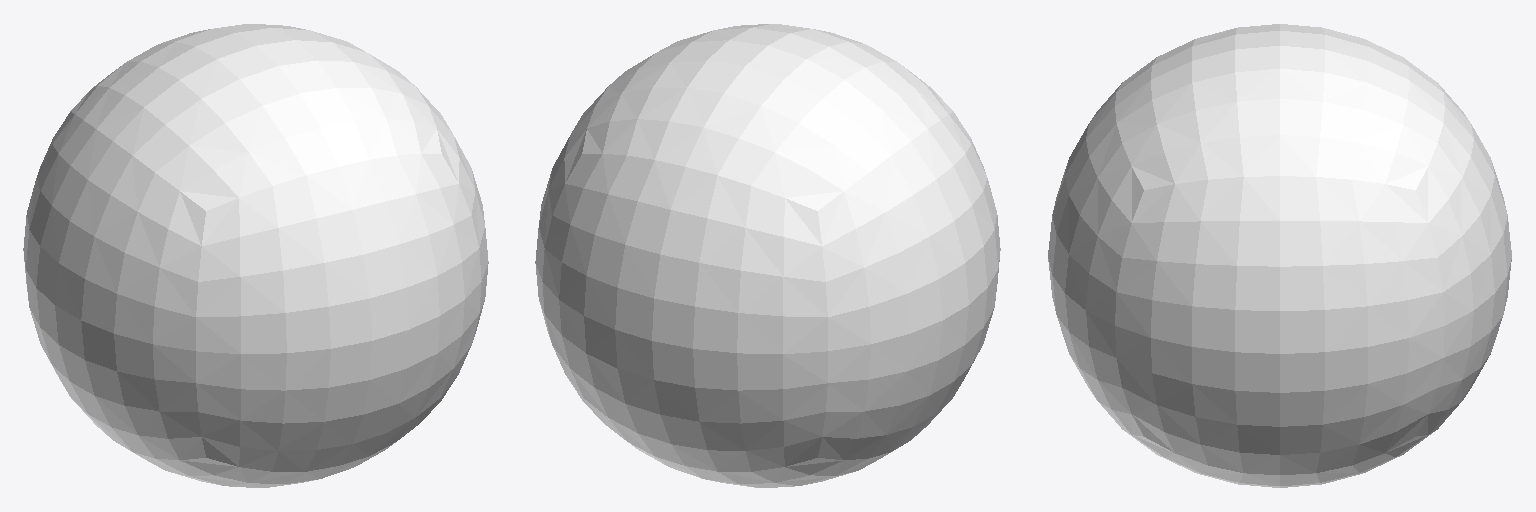
Rendered from BOS.obj.
The picture shows the model from 3 angles: view 1: azimuth 30°, elevation 25°; view 2: azimuth 150°, elevation 25°; view 3: azimuth 270°, elevation 25°; orthographic projection.
Visible parts, largest first — view 1: BOS; view 2: BOS; view 3: BOS.
Part boxes in pixels (x1,y1,x2,y2): BOS: (23,24,488,487); BOS: (535,24,1000,487); BOS: (1048,24,1511,487).
Bounding box in the file's own units: 145 × 145 × 145.